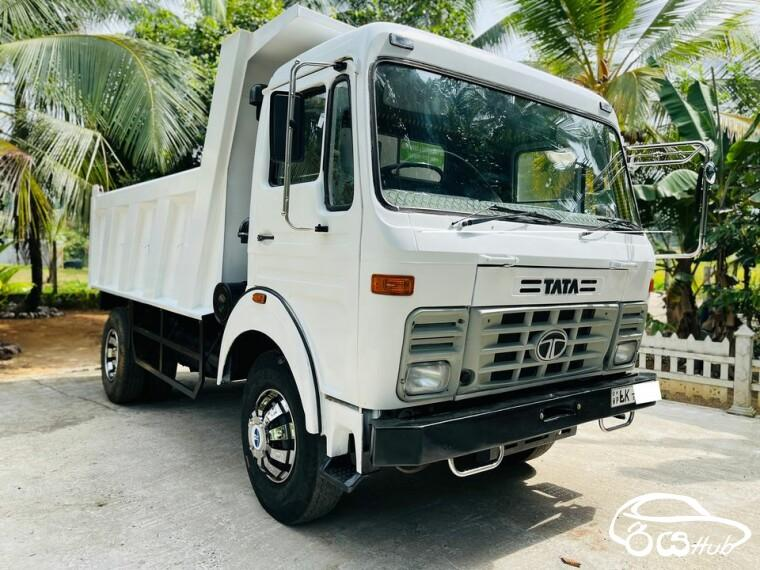truck: (88, 4, 661, 528)
